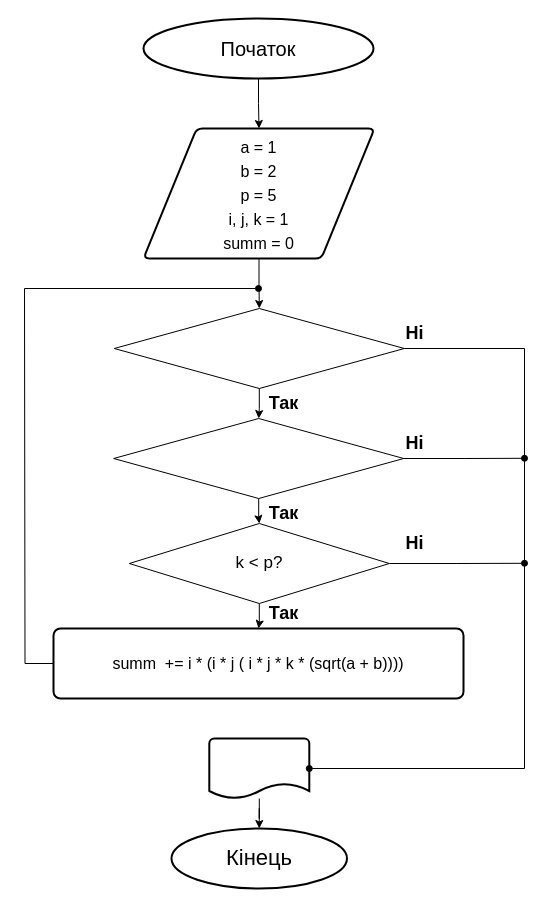
Image size: 550x906. Some labels were removed from this diagram. The centre of each missing label's shape, as x and y in pixels:
"i < p?" goes at pixel 258 348.
"j < p?" goes at pixel 258 458.
"Y1 = summ" goes at pixel 259 768.
